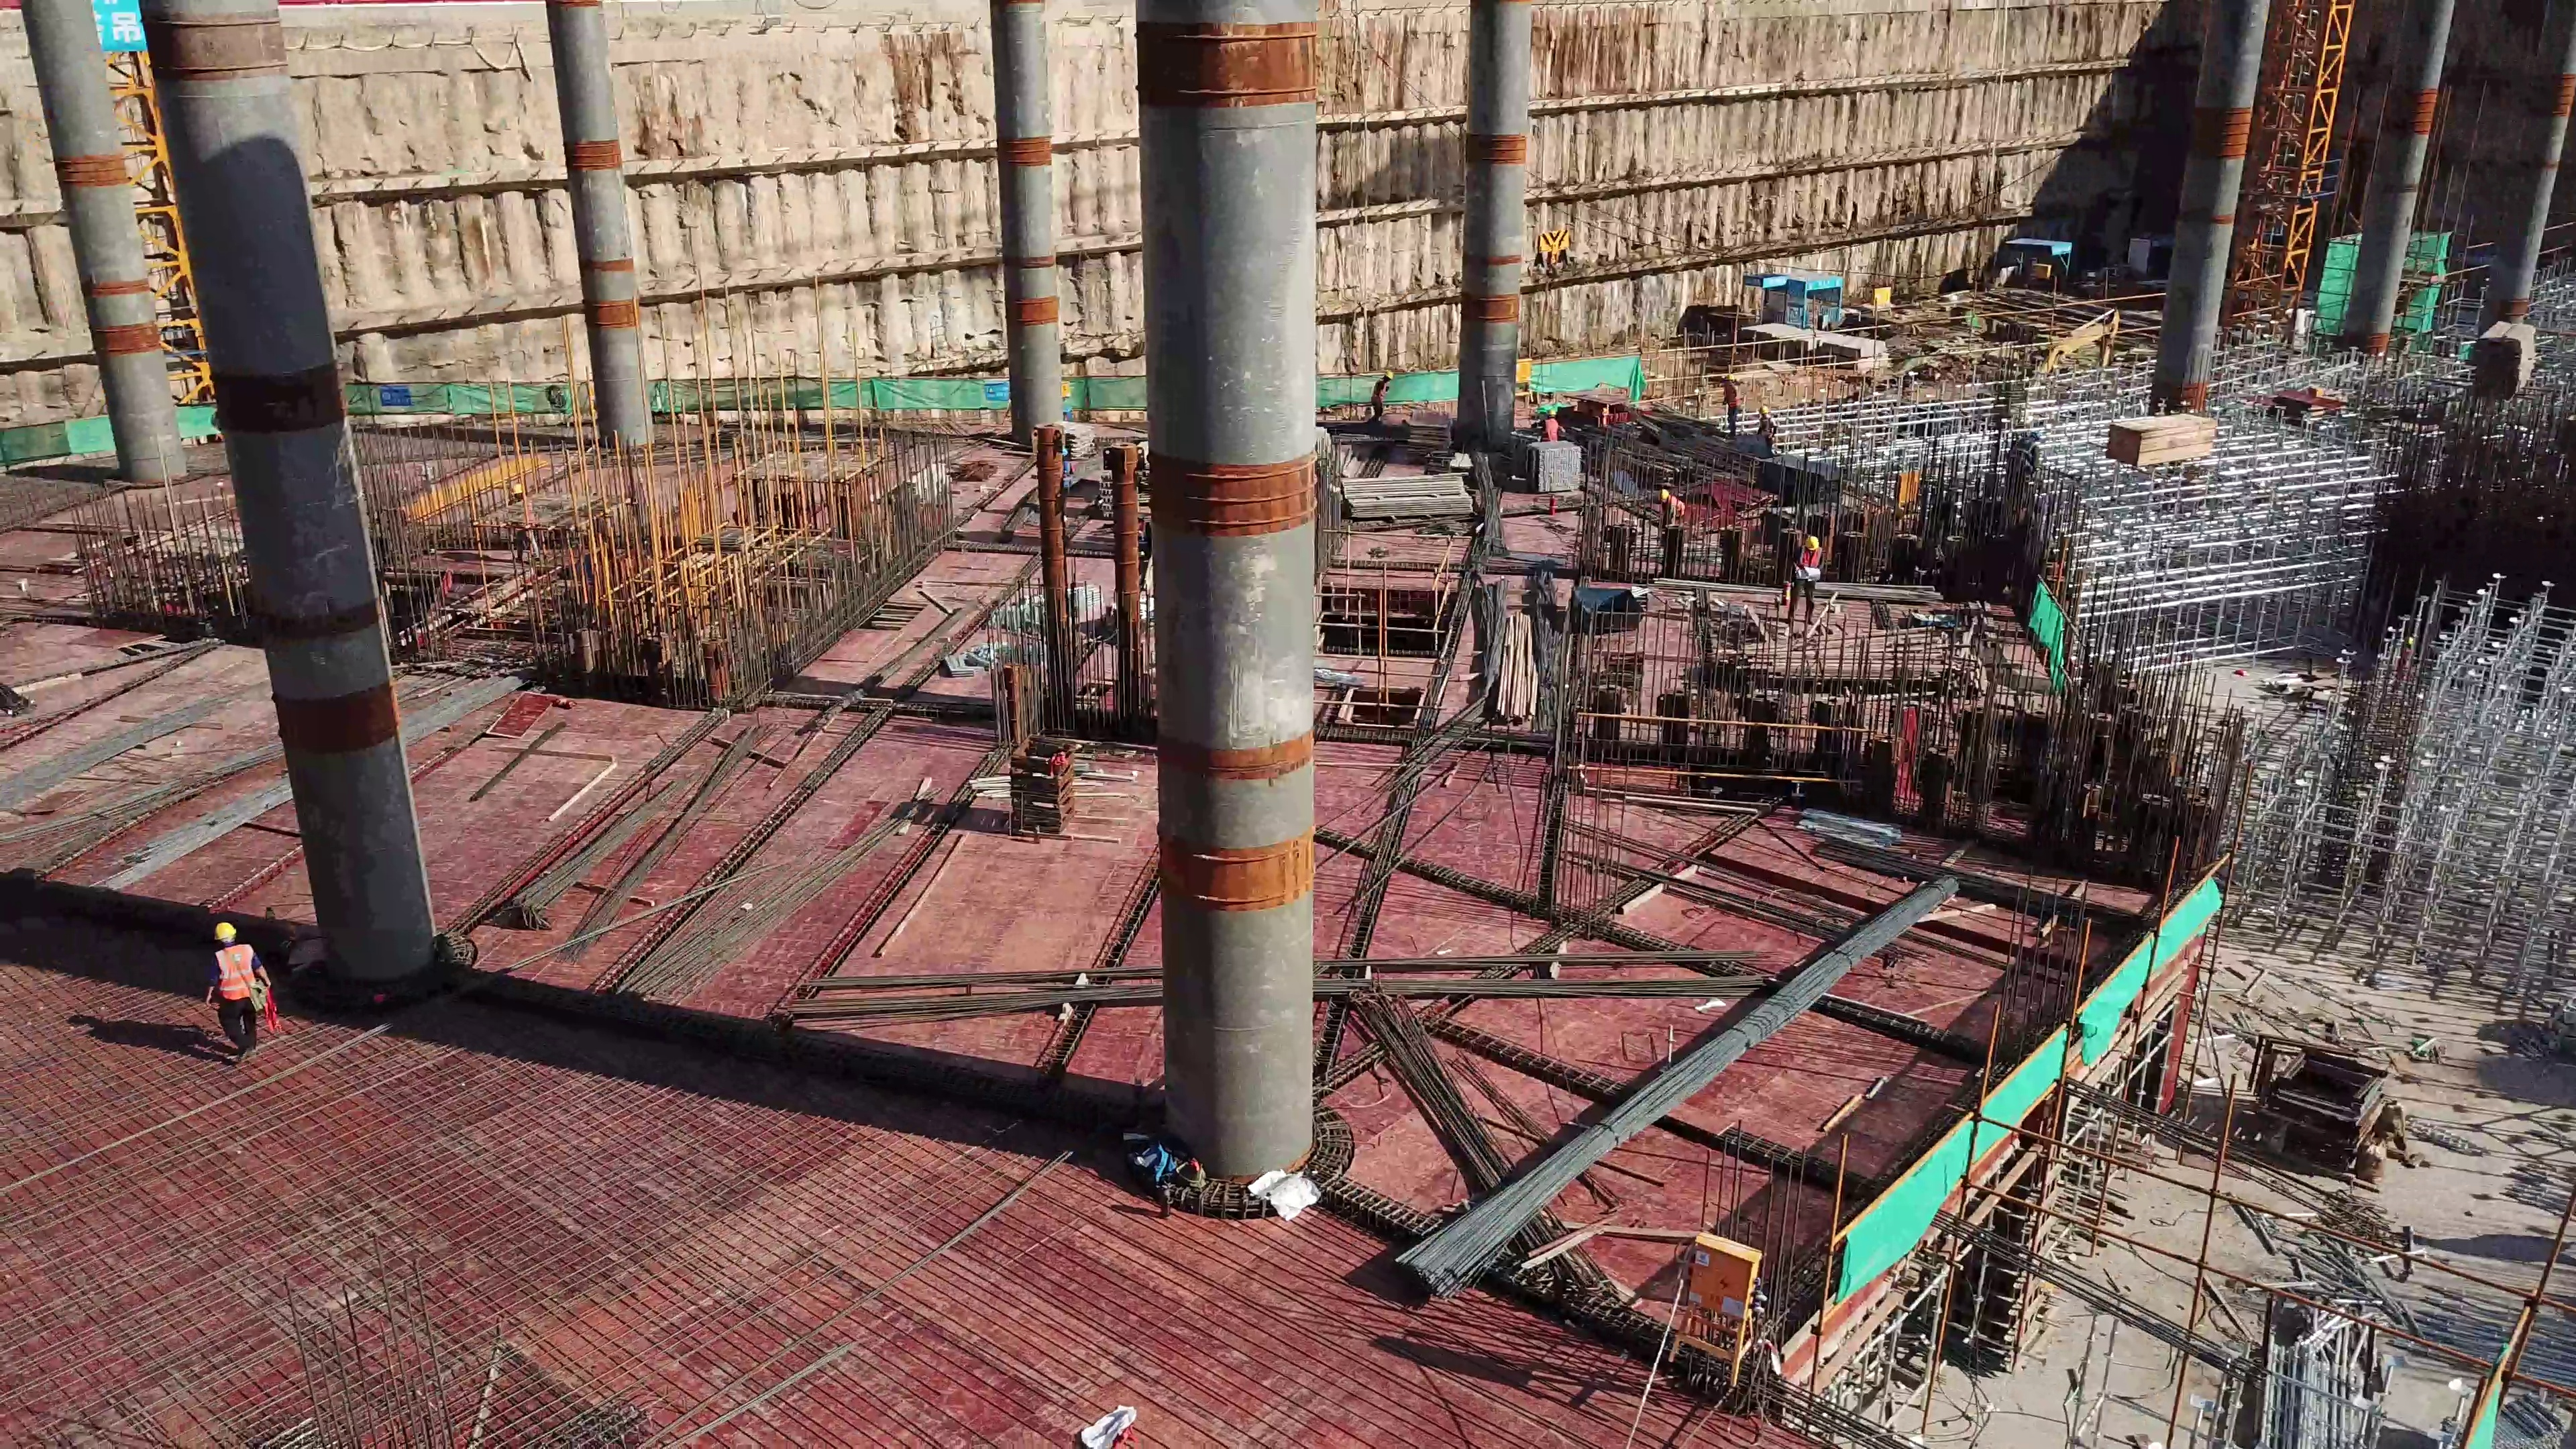ebox: (1663, 1223, 1770, 1362), (1517, 349, 1540, 409), (1867, 284, 1900, 311)
helmet: (213, 915, 242, 946), (1803, 535, 1822, 551), (1658, 488, 1672, 502), (1383, 368, 1394, 384), (1545, 407, 1560, 417), (1727, 375, 1737, 385), (1760, 407, 1773, 415)
person: (180, 890, 305, 1065), (1776, 535, 1836, 633), (1362, 360, 1402, 432), (1652, 484, 1693, 549), (1719, 375, 1751, 441), (1752, 407, 1782, 458), (1527, 410, 1568, 448)
rebar: (1409, 883, 1957, 1269), (1346, 995, 1600, 1305), (754, 945, 1807, 1010), (573, 719, 775, 956), (522, 770, 690, 912)
scaffold: (2235, 1334, 2400, 1449)
vest: (207, 944, 266, 1001), (1536, 419, 1562, 441), (1656, 499, 1688, 517), (1369, 380, 1392, 404), (1757, 417, 1778, 440), (1794, 552, 1822, 569), (1721, 385, 1741, 408)
wood: (2106, 407, 2219, 463)
